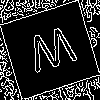W: (24, 25, 82, 83)
